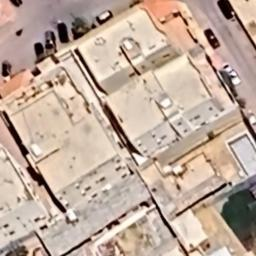SUV: (92, 8, 114, 28), (42, 30, 58, 56)
sedan: (221, 59, 244, 88), (202, 26, 222, 50), (54, 19, 72, 44), (217, 0, 236, 22), (33, 40, 46, 60)
